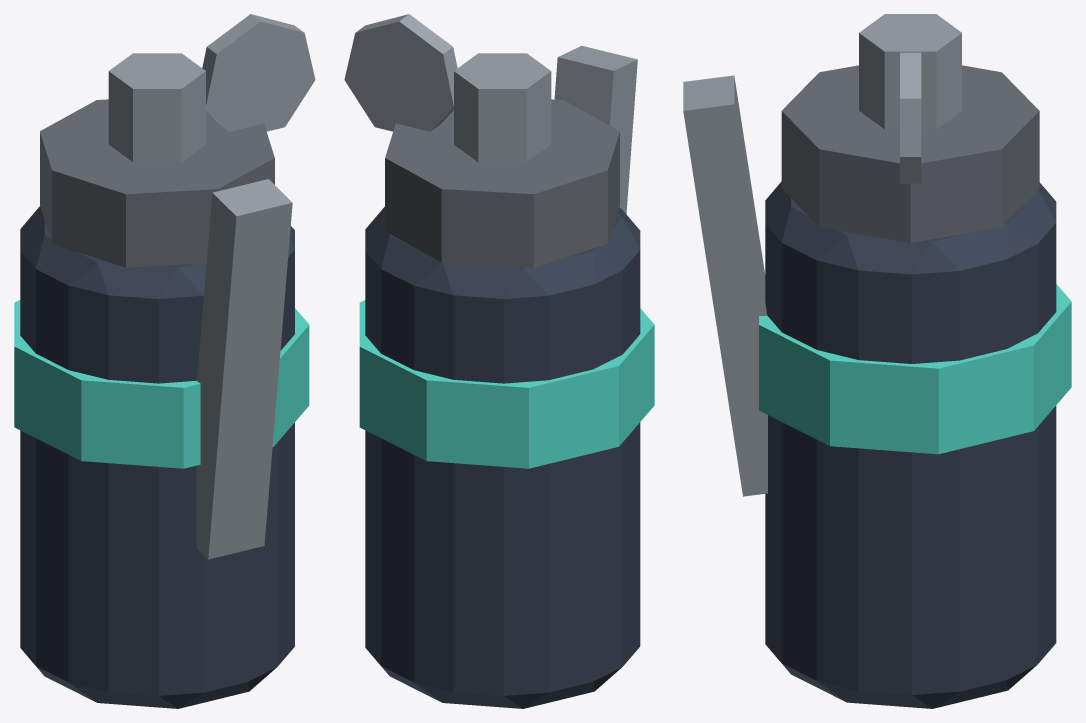
Rendered from smoke_grenade.glb.
3 renders of one model, left to right at view 1: azimuth 30°, elevation 25°; view 2: azimuth 150°, elevation 25°; view 3: azimuth 270°, elevation 25°, orthographic. The views are drawn at different scales.
Parts seen in each view (by area): view 1: wpn_smoke_grenade; view 2: wpn_smoke_grenade; view 3: wpn_smoke_grenade.
Part boxes in pixels (bbox=[...]): wpn_smoke_grenade: bbox=[14, 14, 315, 708]; wpn_smoke_grenade: bbox=[344, 14, 654, 708]; wpn_smoke_grenade: bbox=[683, 14, 1071, 708].
Size of the model in its own units: 0.0805 by 0.168 by 0.0904.
1 material, 1 textured.
